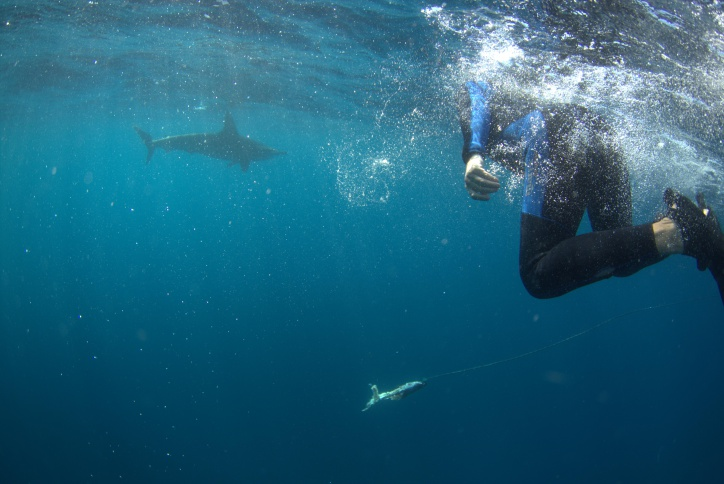Hammer: (133, 118, 288, 179)
